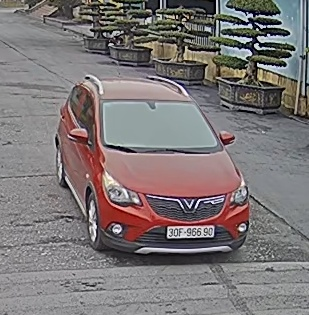vehicle plate: (164, 223, 216, 237)
